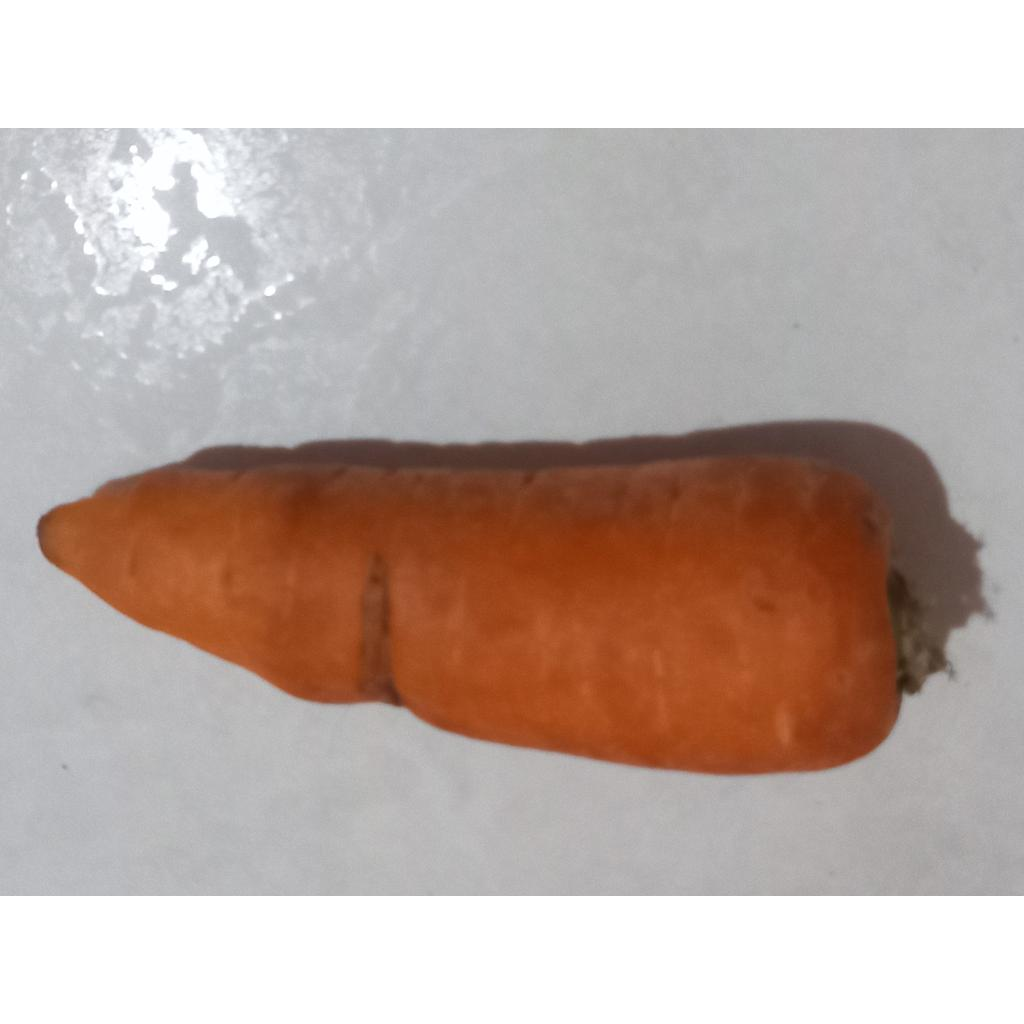carrot: (38, 458, 940, 774)
